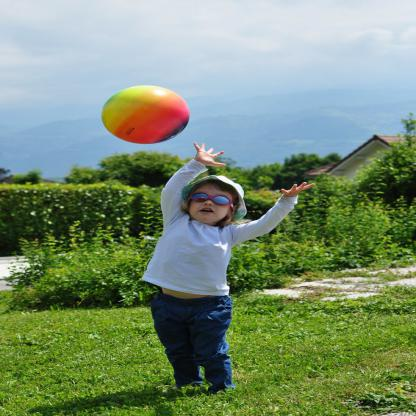Ball: (97, 85, 196, 144)
